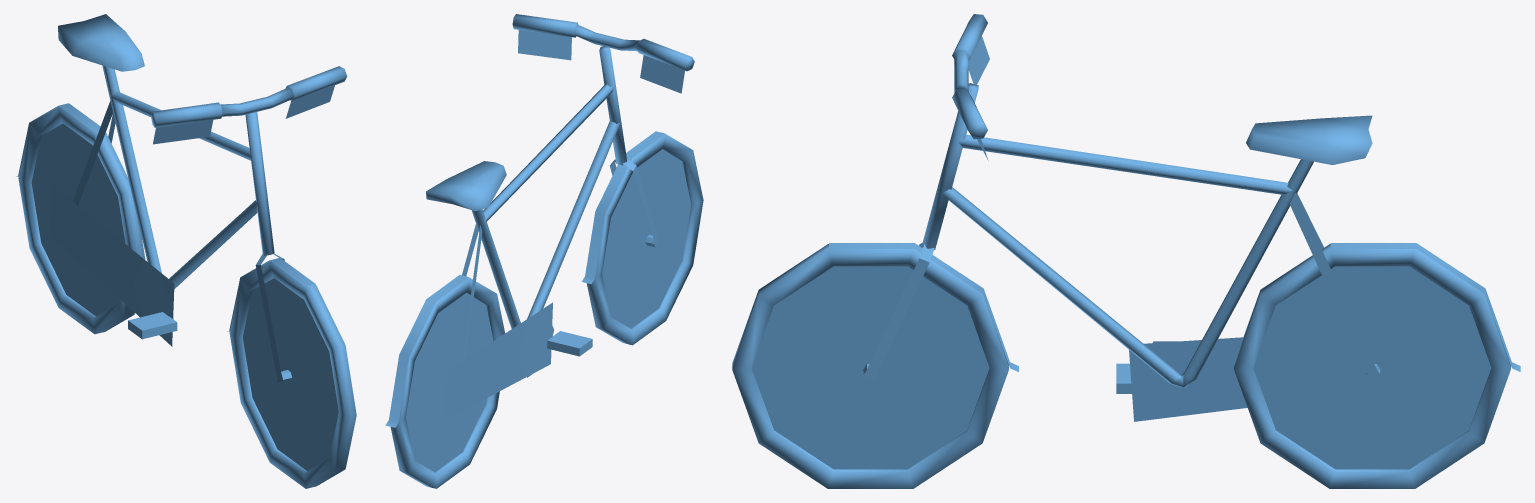
The model's file is Bike_2.fbx.
3 views of the same model, side by side, from view 1: azimuth 30°, elevation 25°; view 2: azimuth 150°, elevation 25°; view 3: azimuth 270°, elevation 25° (orthographic). The views are drawn at different scales.
Parts seen in each view (by area): view 1: Cylinder.002; view 2: Cylinder.002; view 3: Cylinder.002.
Boxes of the visible parts, box(x1,y1,x2,y2) form: Cylinder.002: box(16, 14, 356, 488); Cylinder.002: box(385, 14, 703, 488); Cylinder.002: box(732, 14, 1520, 488).
Bounding box in the file's own units: 1.89 × 3.32 × 5.7.
